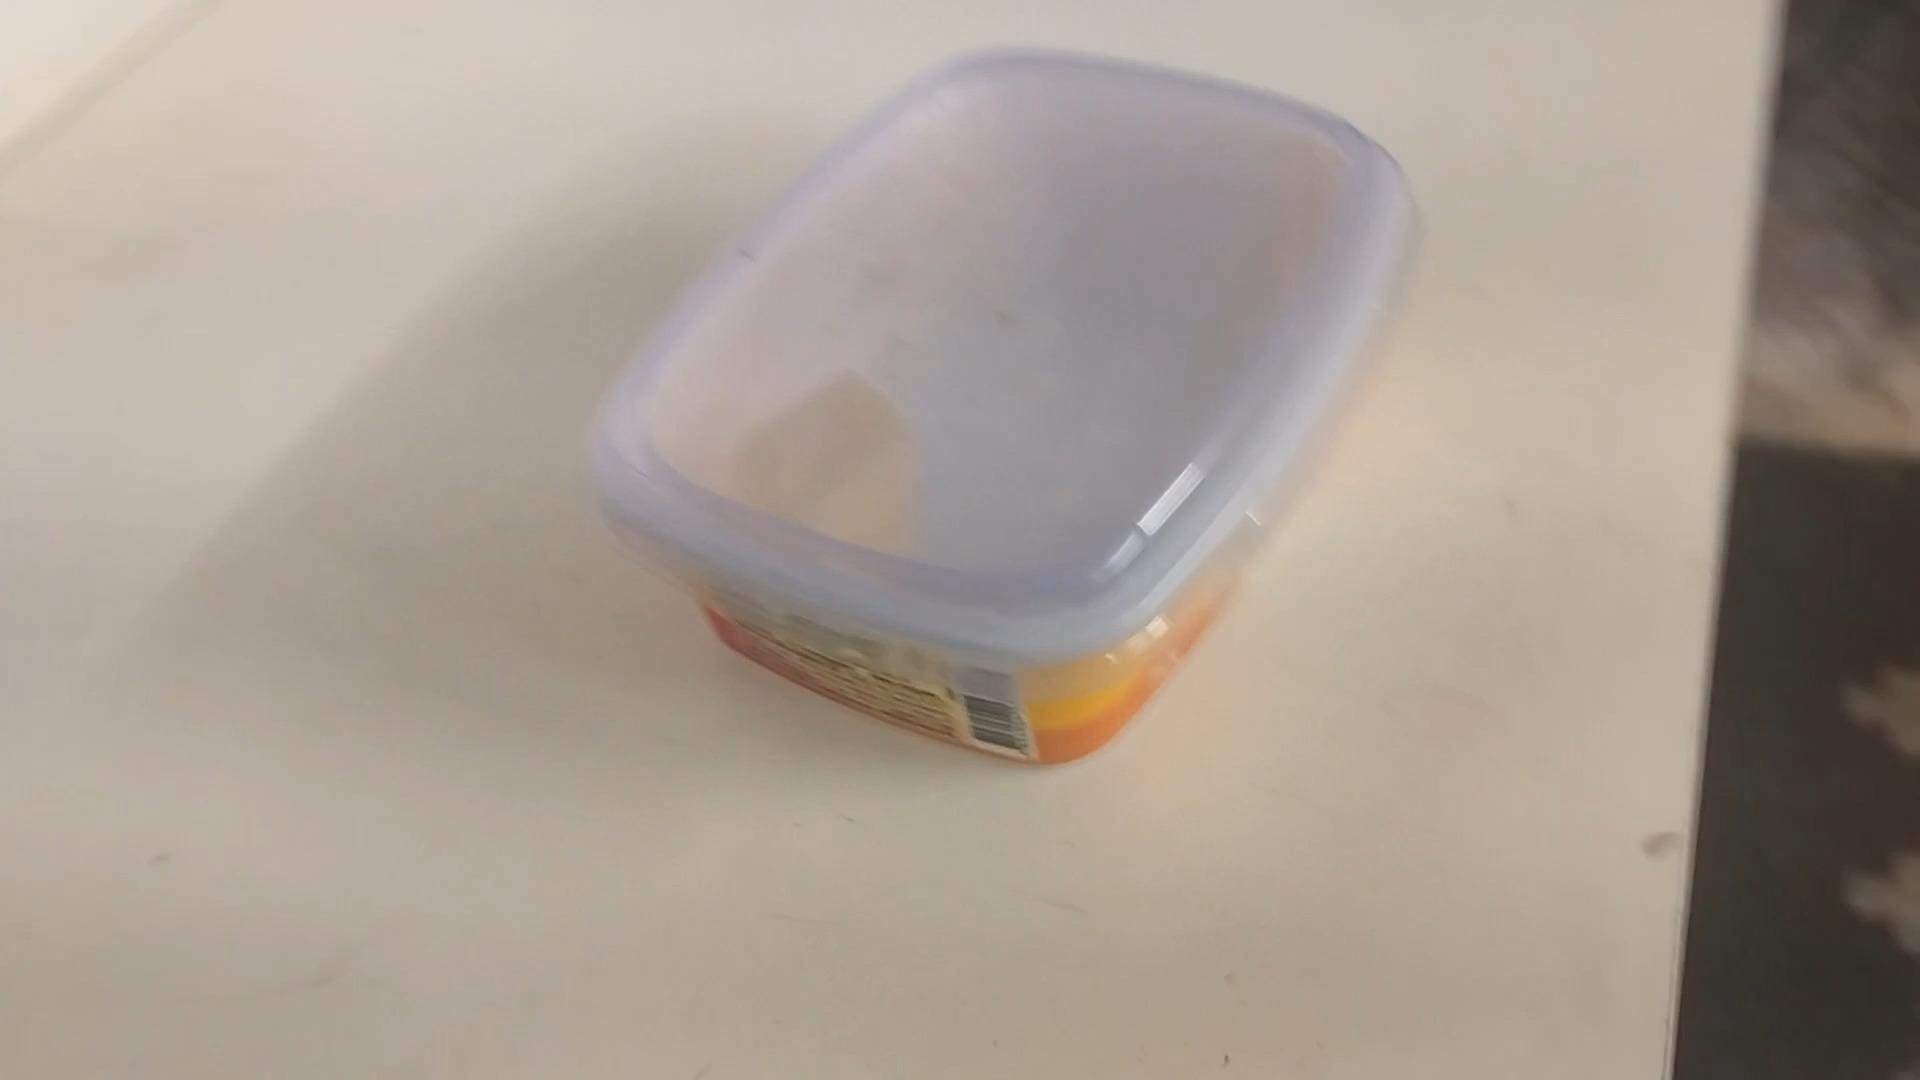butter: (570, 47, 1412, 775)
